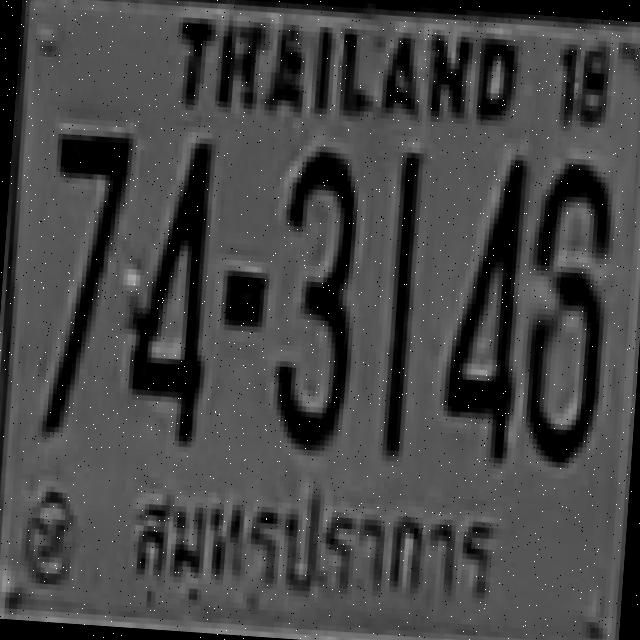1: (382, 149, 420, 388)
3: (265, 144, 361, 446)
4: (118, 134, 218, 442), (436, 150, 527, 458)
7: (40, 128, 131, 371), (43, 128, 131, 328)
SamutPrakan: (112, 464, 509, 620)
